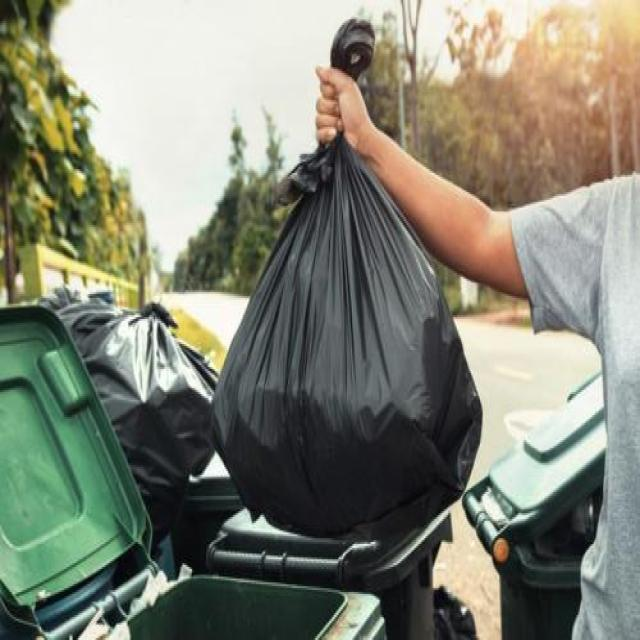Vinyl: (207, 0, 488, 550), (49, 282, 220, 530)
